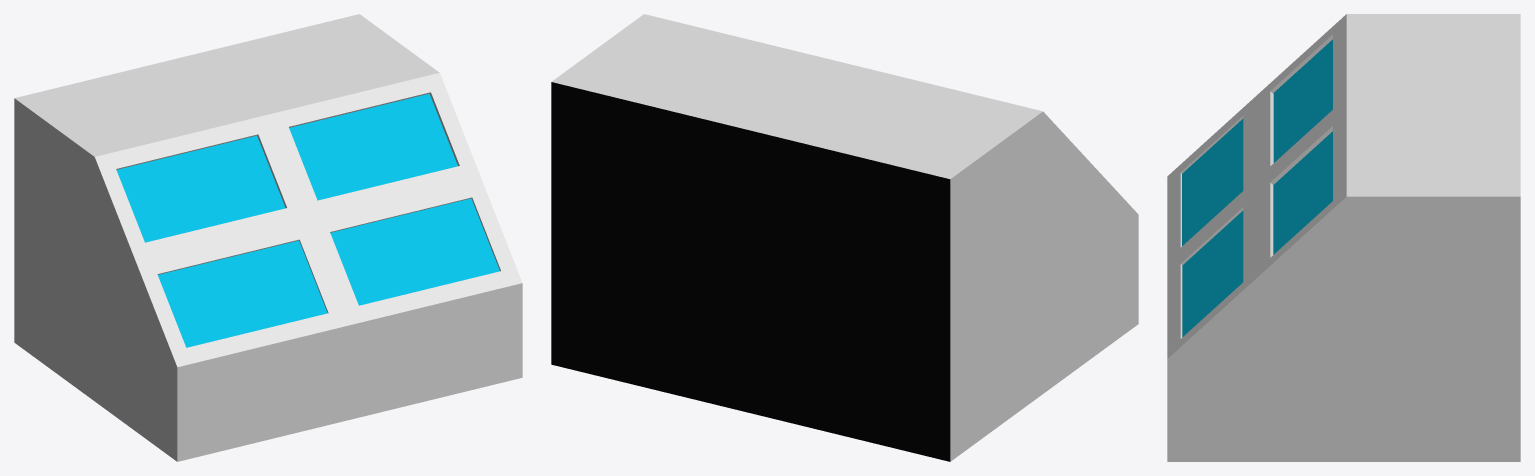
The model's file is Room.fbx.
3 views of the same model, side by side, from view 1: azimuth 30°, elevation 25°; view 2: azimuth 150°, elevation 25°; view 3: azimuth 270°, elevation 25° (orthographic). The views are drawn at different scales.
Visible parts, largest first — view 1: WindowWall, BackSideWall, Roof, BottomLeftWindow, BottomRightWindow, TopLeftWindow, TopRightWindow; view 2: BackWall, BackSideWall, Roof; view 3: DoorWall, Roof, WindowWall, BottomLeftWindow, BottomRightWindow, TopLeftWindow, TopRightWindow.
Part boxes in pixels (left/top/right/bottom): WindowWall: left=95, top=73, right=522, bottom=461; BackSideWall: left=14, top=98, right=177, bottom=461; Roof: left=15, top=14, right=439, bottom=156; BottomLeftWindow: left=158, top=240, right=327, bottom=347; BottomRightWindow: left=330, top=198, right=499, bottom=305; TopLeftWindow: left=116, top=135, right=285, bottom=242; TopRightWindow: left=289, top=93, right=457, bottom=200; BackWall: left=551, top=82, right=950, bottom=461; BackSideWall: left=950, top=111, right=1138, bottom=461; Roof: left=551, top=14, right=1042, bottom=179; DoorWall: left=1167, top=196, right=1520, bottom=461; Roof: left=1346, top=14, right=1520, bottom=196; WindowWall: left=1167, top=14, right=1346, bottom=358; BottomLeftWindow: left=1182, top=118, right=1243, bottom=245; BottomRightWindow: left=1182, top=210, right=1243, bottom=336; TopLeftWindow: left=1273, top=39, right=1332, bottom=162; TopRightWindow: left=1273, top=131, right=1332, bottom=254.
Size of the model in its own units: 419 by 284 by 343.
